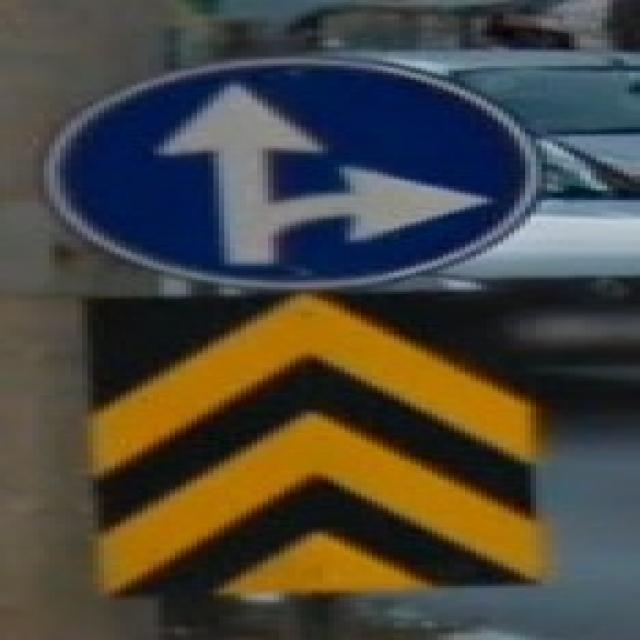Straight or Right: (50, 61, 543, 280)
